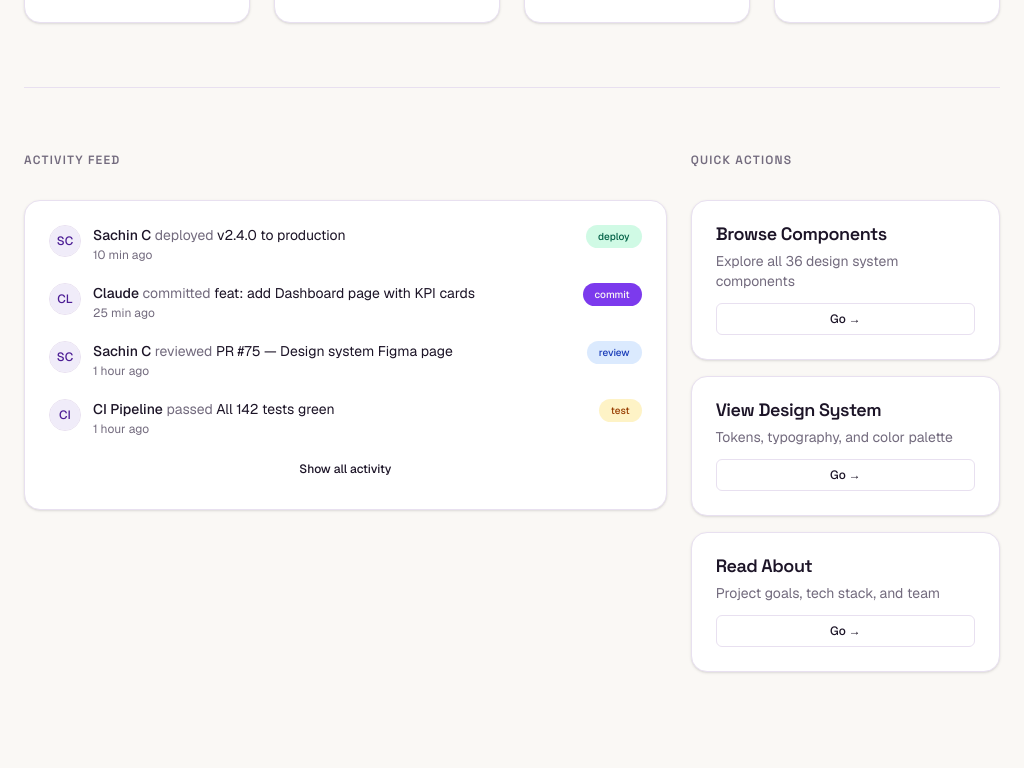
Test case: DashboardContent › activity feed › collapses back to 4 items when Show less is clicked
The image size is (1024, 768).
(page scrolled)
Click the button "Show all activity" at point(345, 469), box [49, 453, 642, 485]
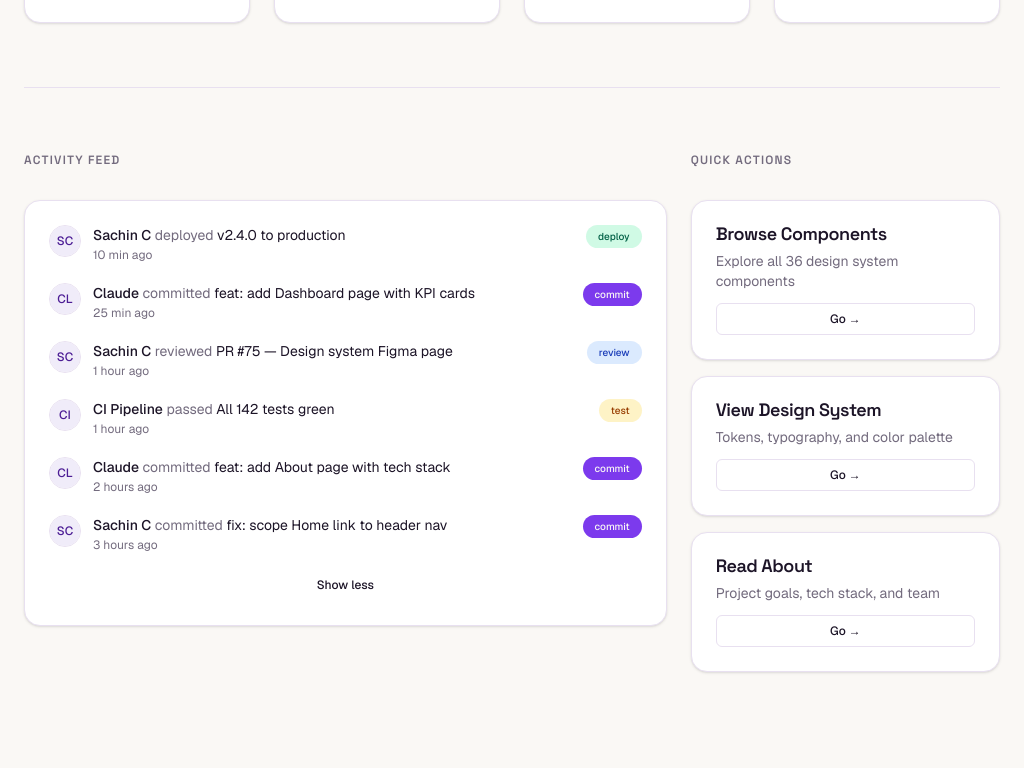
Click the button "Show less" at point(345, 585), box [49, 569, 642, 601]
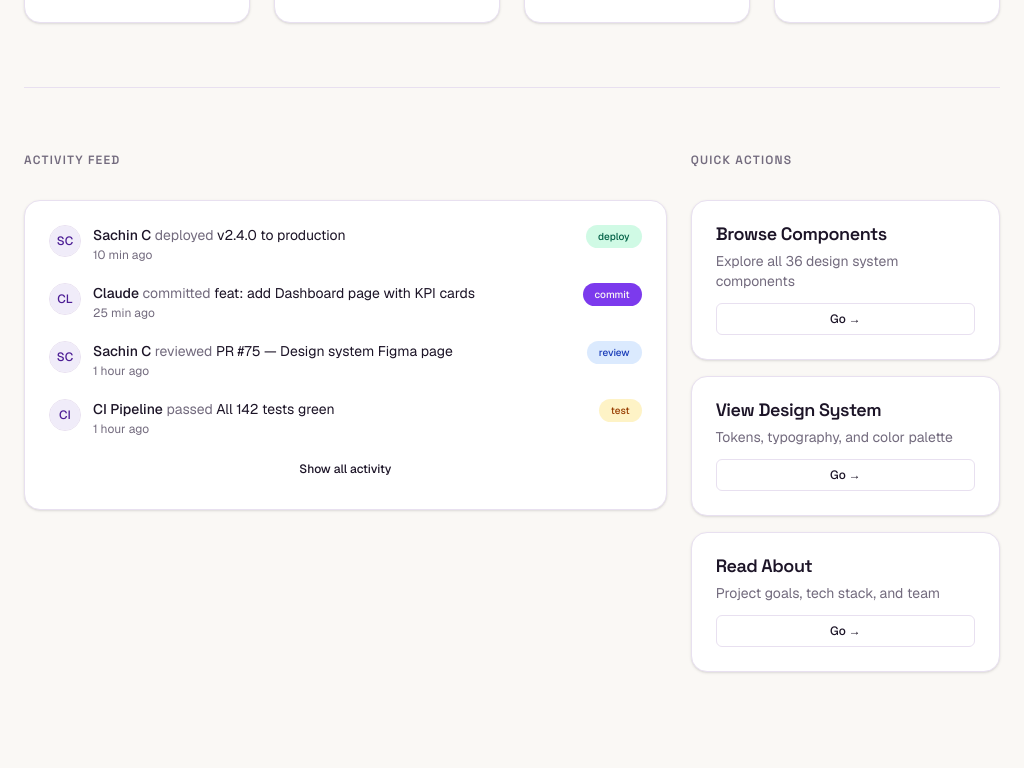
Now the button "Show all activity" is shown, box [49, 453, 642, 485]
Now the text "feat: add About page" is gone
